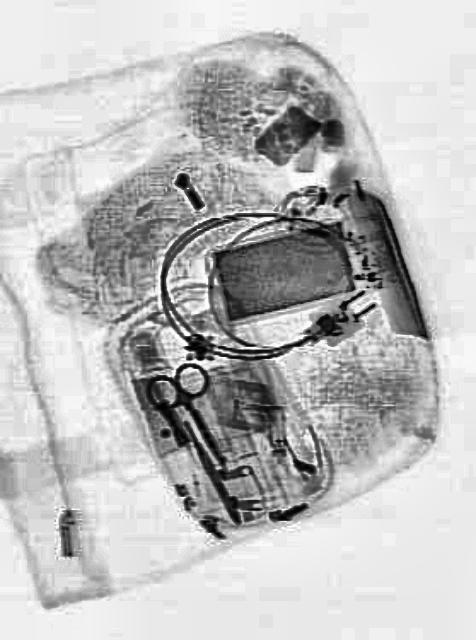Scissors: (140, 344, 244, 486)
